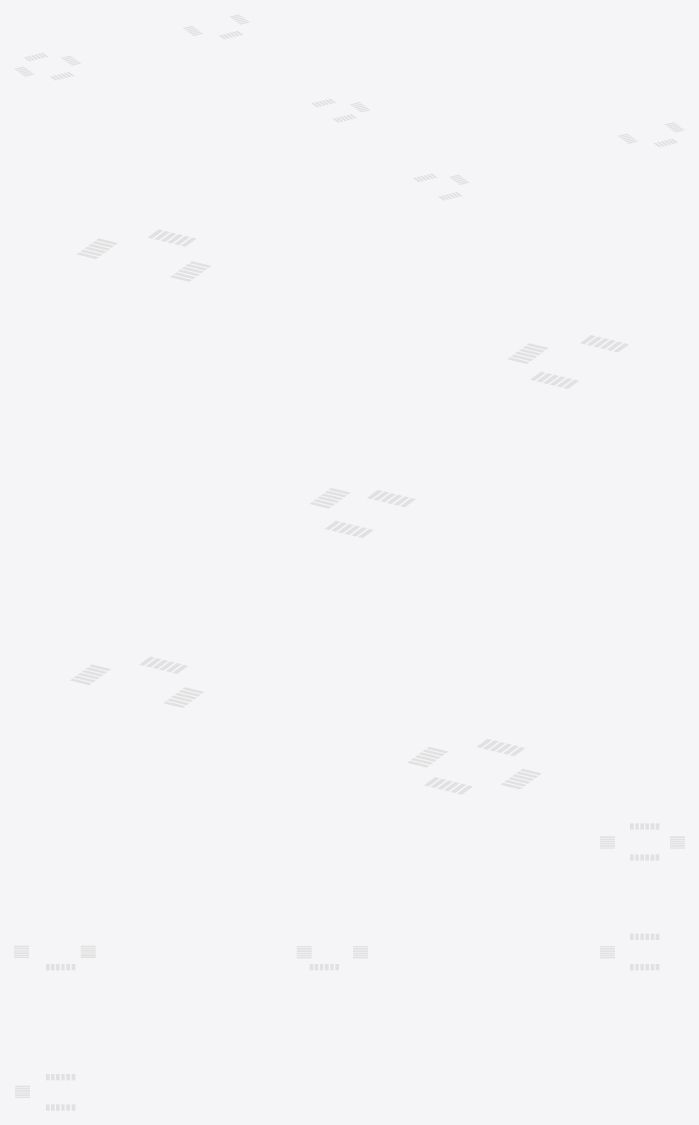
Rendered from zebra_crossing.fbx.
3 views of the same model, one above another, from view 1: azimuth 30°, elevation 25°; view 2: azimuth 150°, elevation 25°; view 3: azimuth 270°, elevation 25° (orthographic). The views are drawn at different scales.
Visible parts, largest first — view 1: zebra_crossing; view 2: zebra_crossing; view 3: zebra_crossing.
Part boxes in pixels (x1,y1,x2,y2): zebra_crossing: [14, 14, 684, 200]; zebra_crossing: [70, 229, 628, 794]; zebra_crossing: [14, 823, 684, 1110].
Size of the model in its own units: 10835 by 10.69 by 10717.
1 material, 1 textured.
